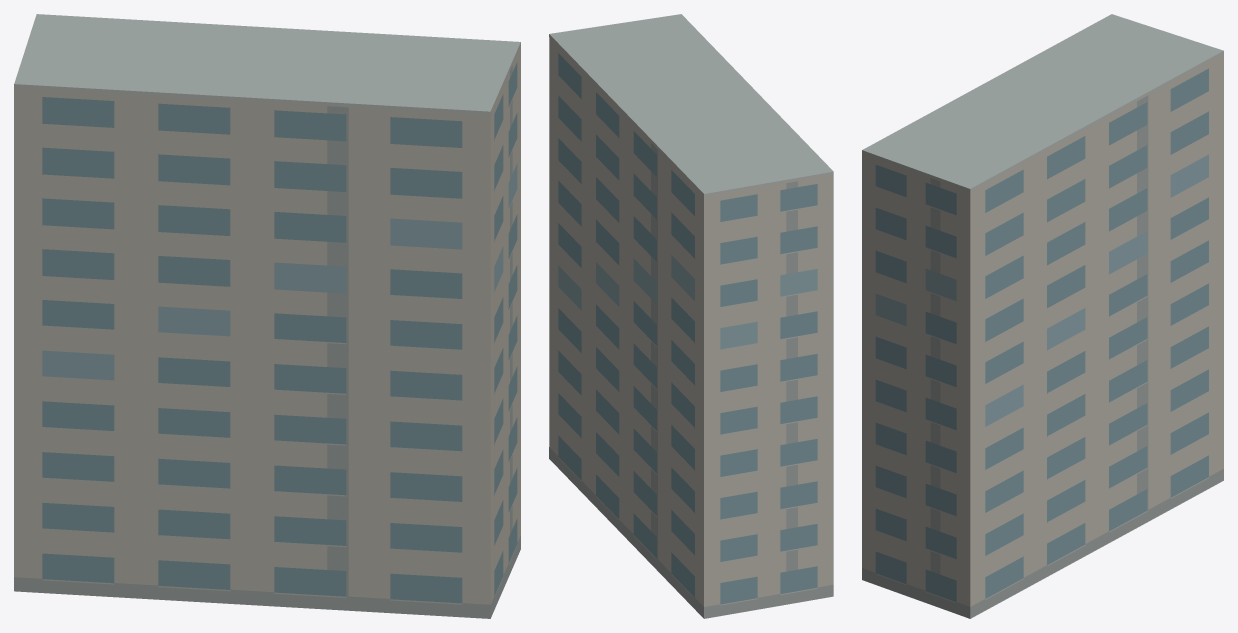
Rendered from residential-6c060e63-6e3b-4d87-bd69-d28ccac00c9c.glb.
3 renders of one model, left to right at view 1: azimuth 30°, elevation 25°; view 2: azimuth 150°, elevation 25°; view 3: azimuth 270°, elevation 25°, orthographic. The views are drawn at different scales.
Visible parts, largest first — view 1: residential-6c060e63-6e3b-4d87-bd69-d28ccac00c9c.tmp; view 2: residential-6c060e63-6e3b-4d87-bd69-d28ccac00c9c.tmp; view 3: residential-6c060e63-6e3b-4d87-bd69-d28ccac00c9c.tmp.
Boxes of the visible parts, left/top/right/bottom form: residential-6c060e63-6e3b-4d87-bd69-d28ccac00c9c.tmp: left=14, top=14, right=520, bottom=618; residential-6c060e63-6e3b-4d87-bd69-d28ccac00c9c.tmp: left=549, top=14, right=833, bottom=618; residential-6c060e63-6e3b-4d87-bd69-d28ccac00c9c.tmp: left=862, top=14, right=1223, bottom=618.
Bounding box in the file's own units: 27.07 × 31 × 23.65.
